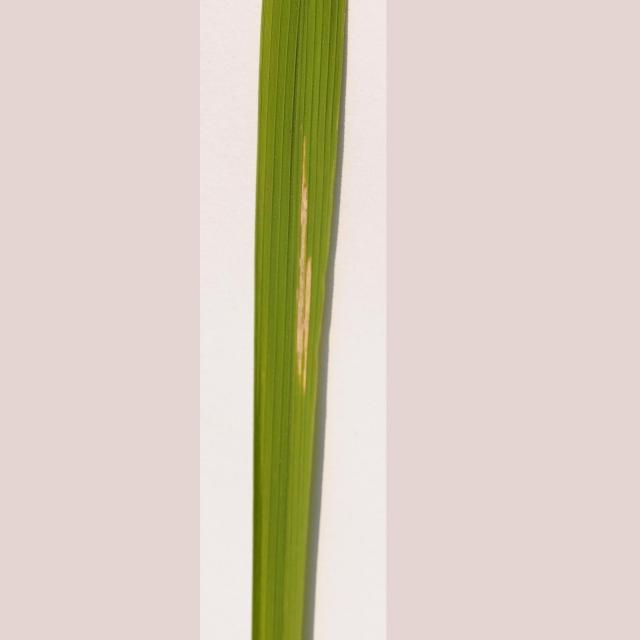leaf blight: (272, 131, 330, 397)
